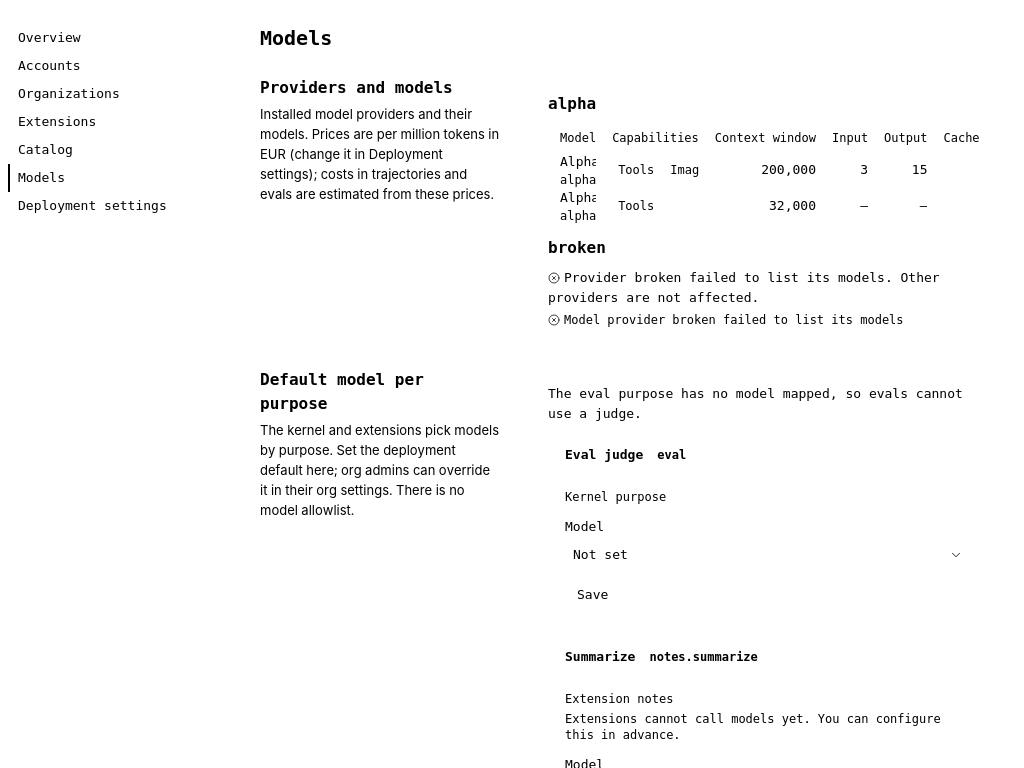
Scenario: /admin/models（SettingsPage） › 用途默认映射：插件用途旁注、eval 未映射提示；设默认 → PUT，提示消失（en）
Expected: the text "The eval purpose has no model mapped, so evals cannot use a judge." is shown, [548,384,988,424]
Expected: the text "Extensions cannot call models yet. You can configure this in advance." is shown, [565,711,971,743]
Select "alpha / Alpha Large" in the dropdown labelled "Model" at (753, 555), box [565,542,941,568]
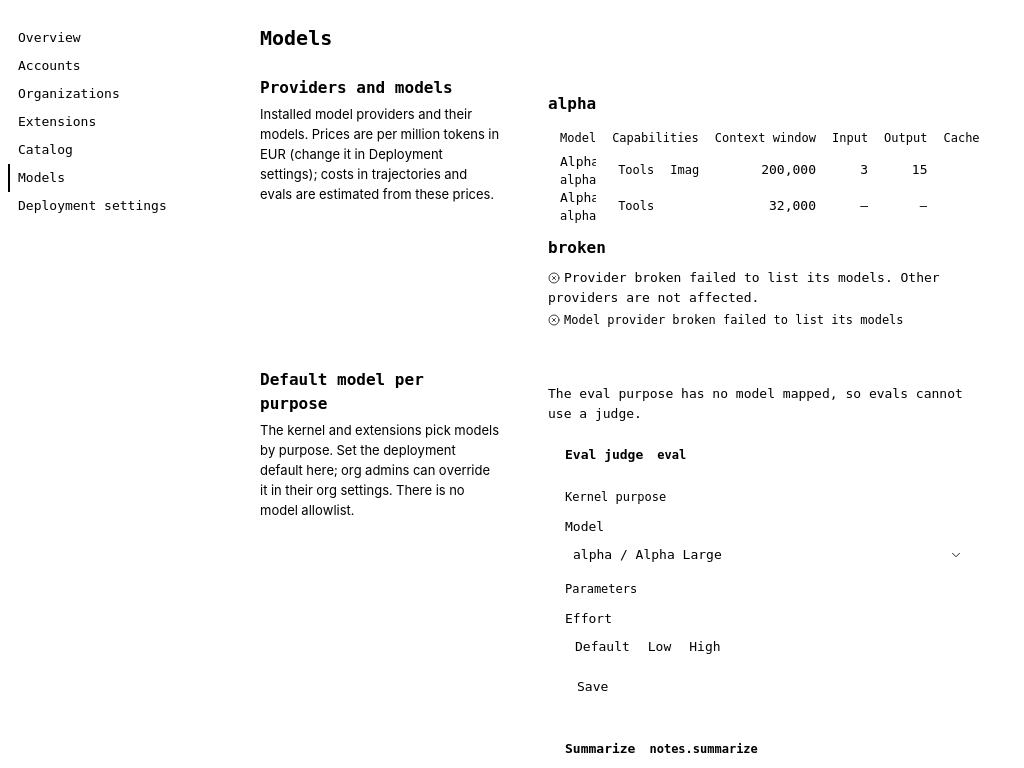
# 选中模型后出现它的参数（复用 ModelParams）
Click the radio button labelled "High" at (705, 647), box [681,635,729,659]
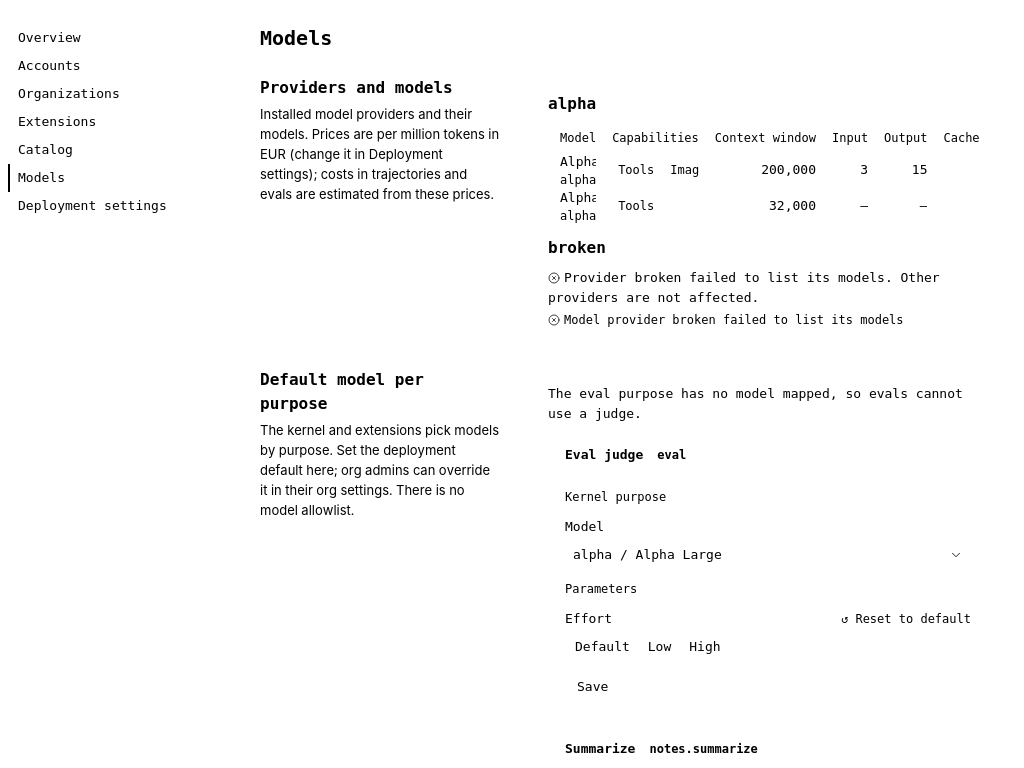
Click the button "Save" at (593, 687), box [565,673,620,701]
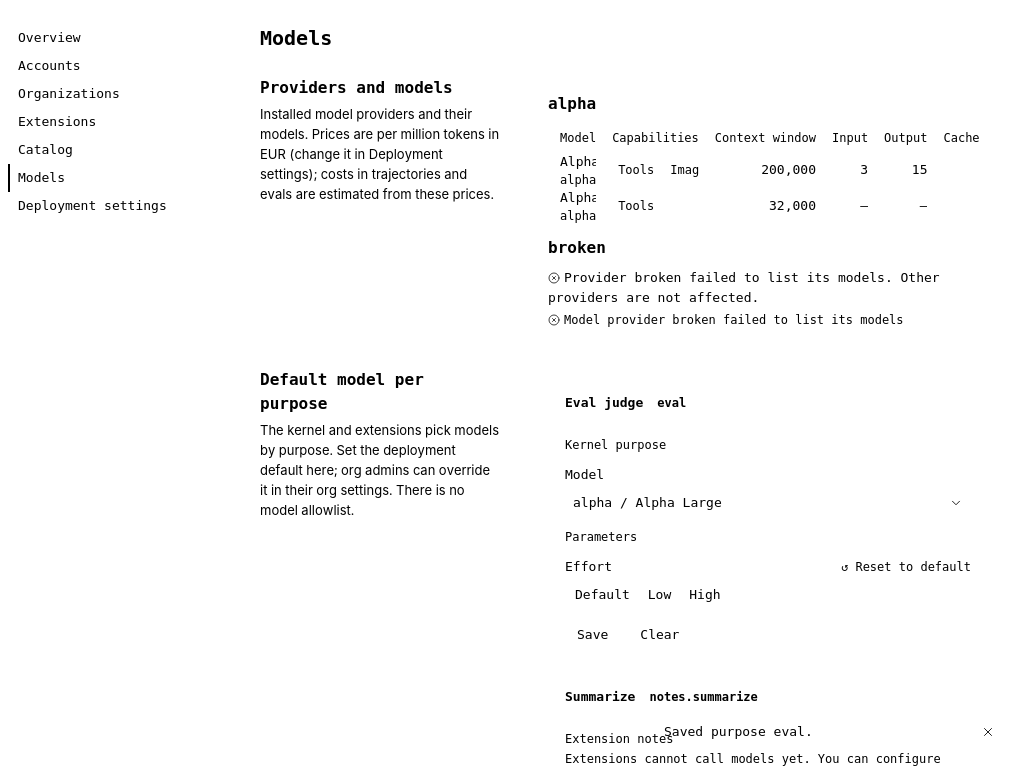
Result: the text "The eval purpose has no model mapped, so evals cannot use a judge." is gone
